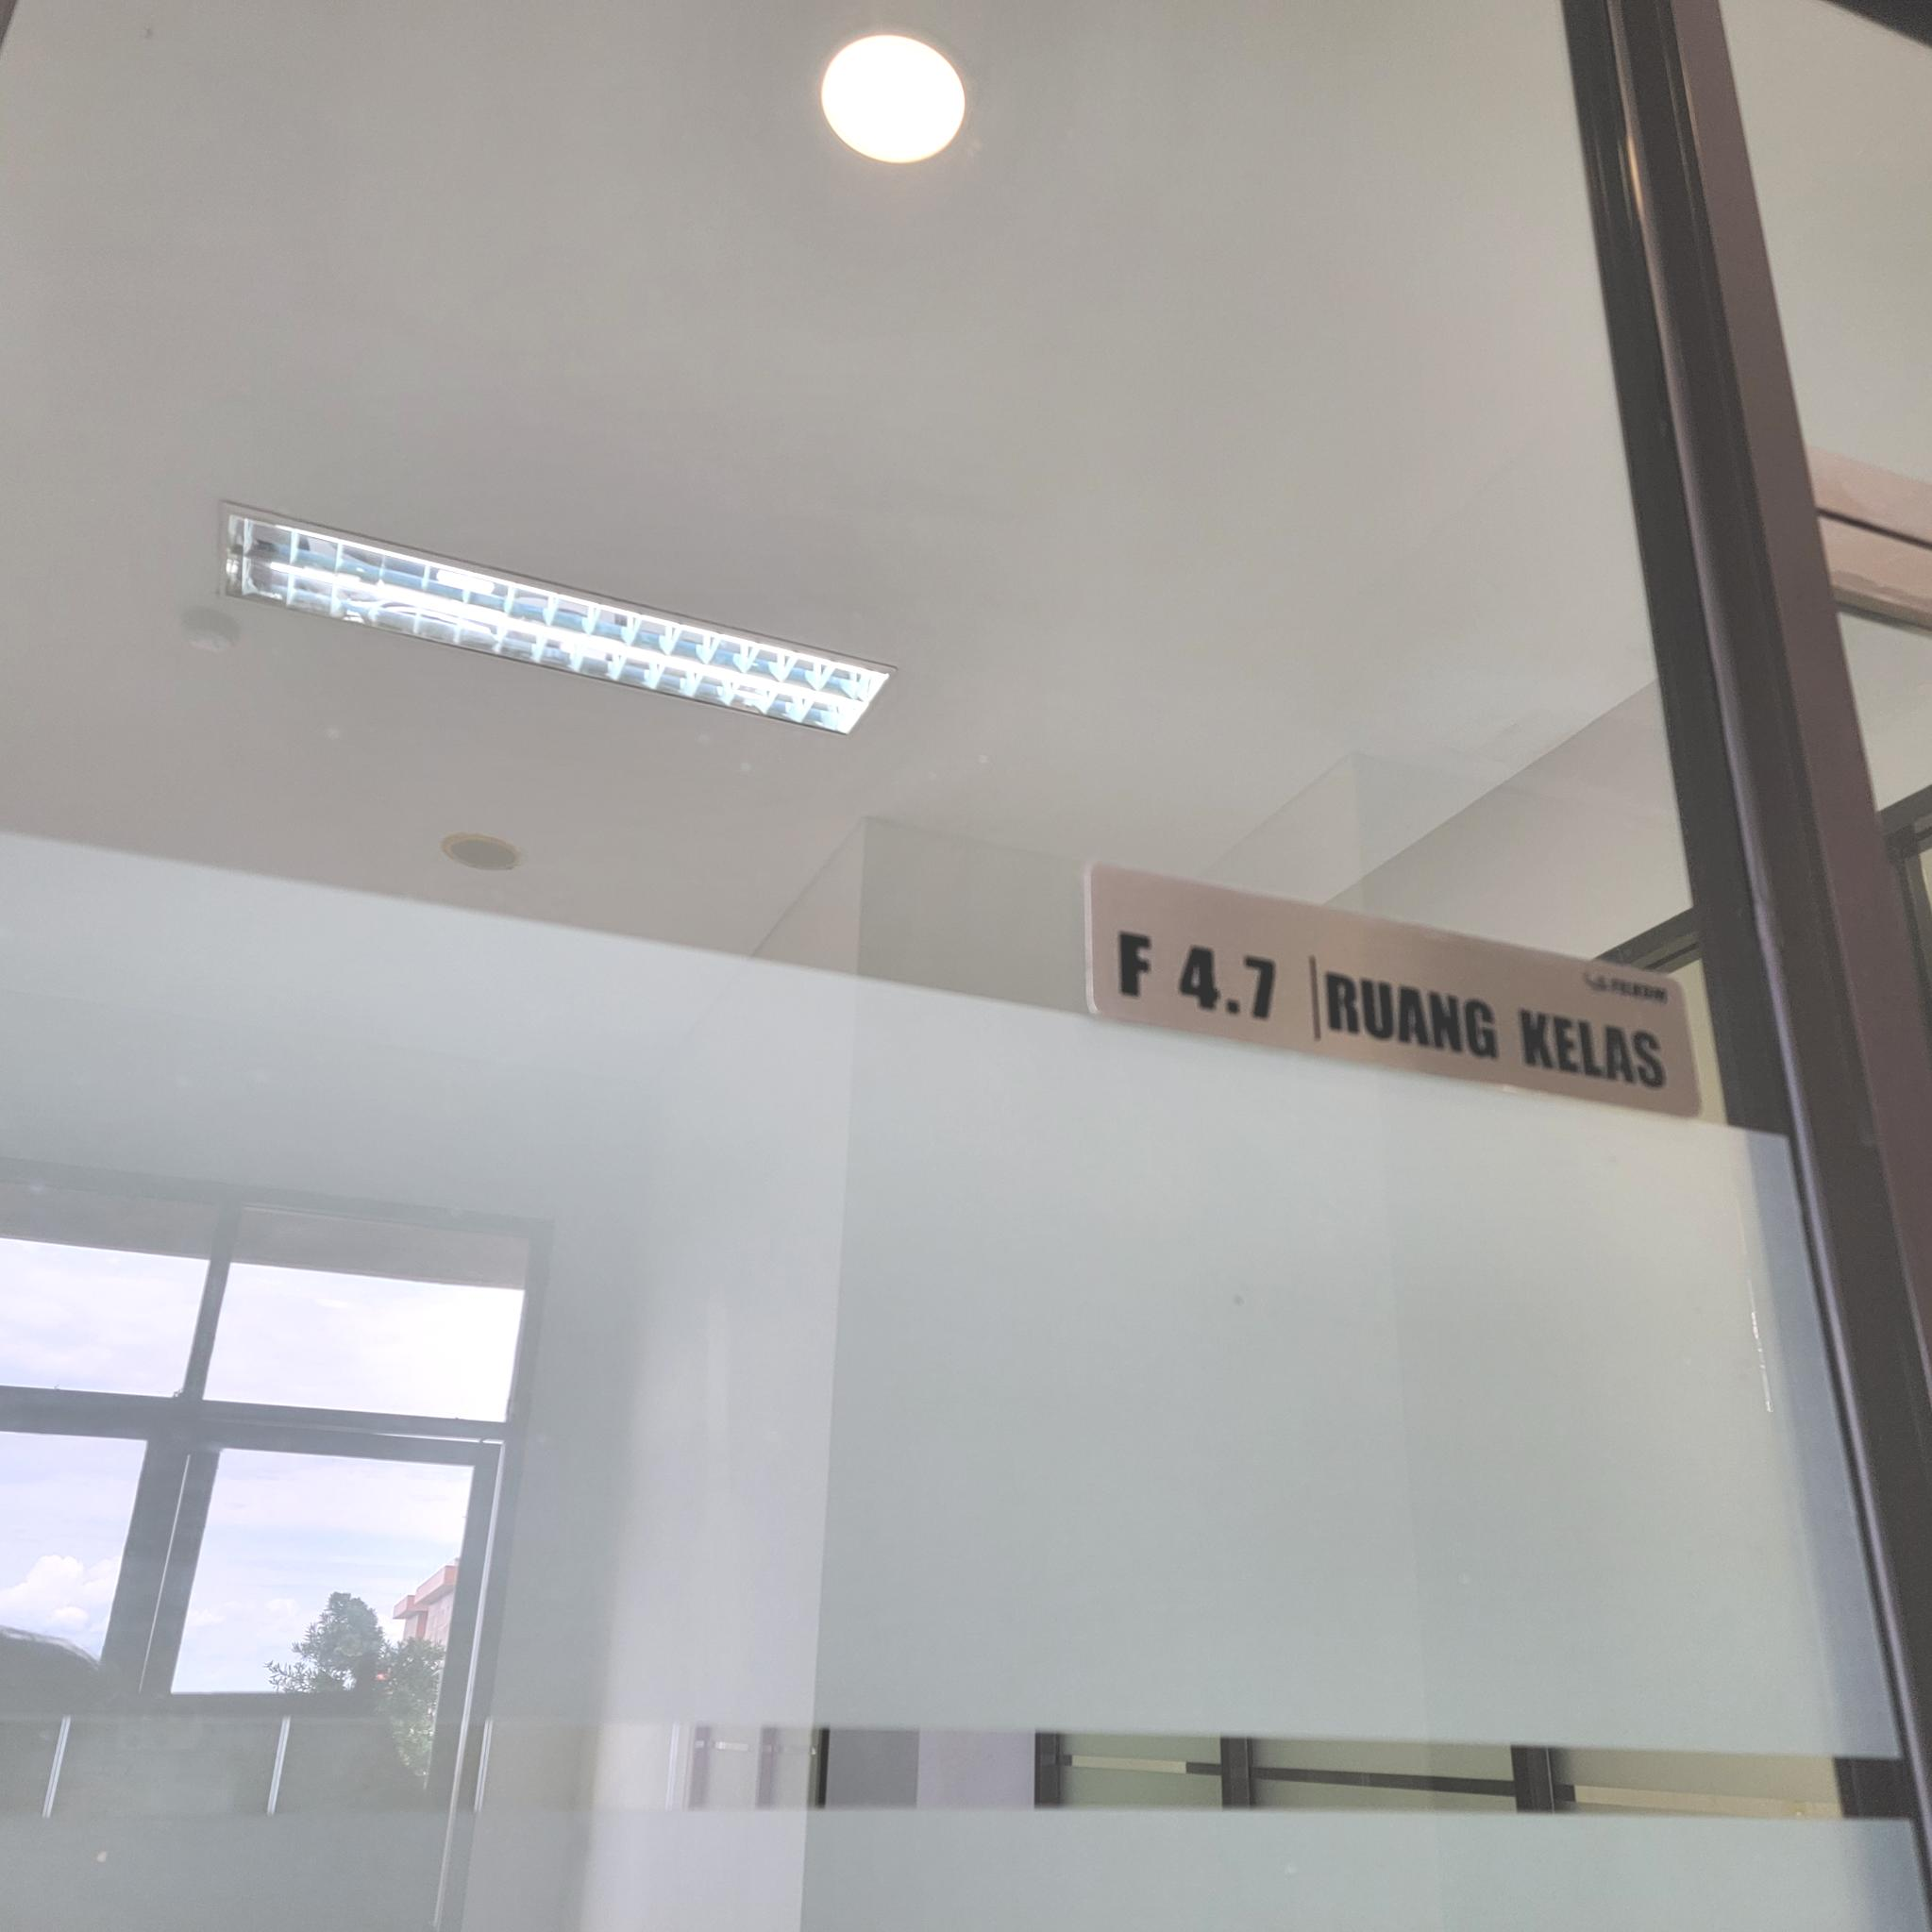plate: (1088, 860, 1706, 1122)
